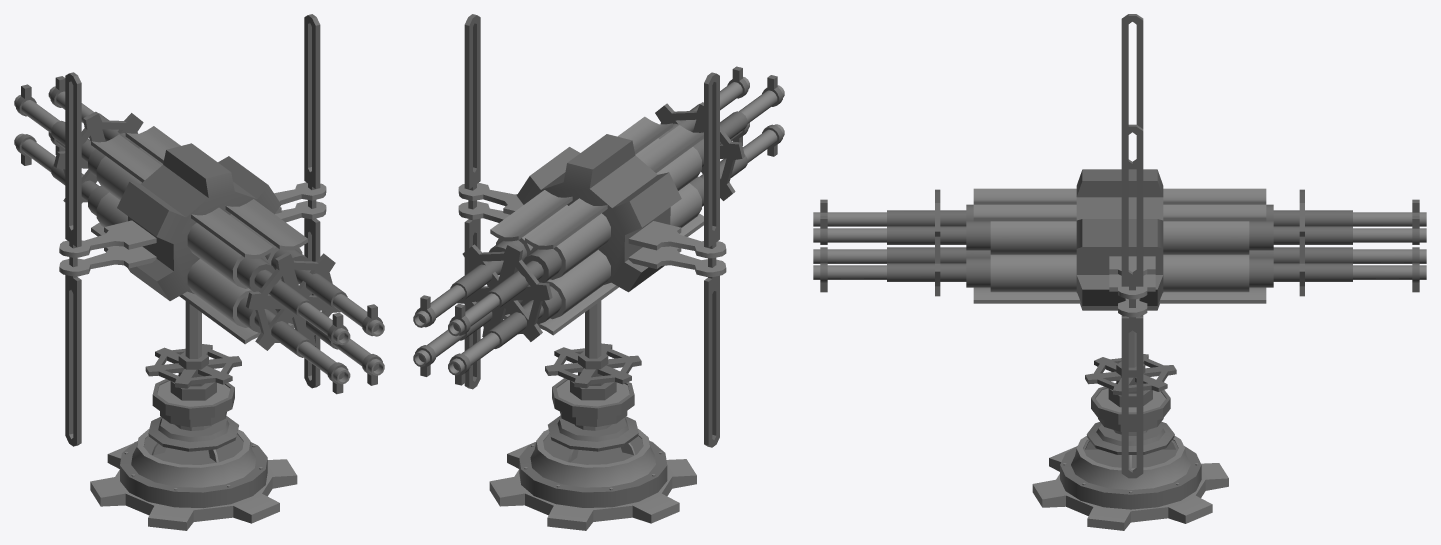
Rendered from flak_slag_mast.glb.
3 views of the same model, side by side, from view 1: azimuth 30°, elevation 25°; view 2: azimuth 150°, elevation 25°; view 3: azimuth 270°, elevation 25° (orthographic). The views are drawn at different scales.
Parts seen in each view (by area): view 1: Turret, Body; view 2: Turret, Body; view 3: Turret, Body.
Boxes of the visible parts, x1,y1,x2,y2 form: Turret: [14, 14, 384, 446]; Body: [90, 379, 297, 530]; Turret: [413, 14, 784, 447]; Body: [489, 378, 696, 530]; Turret: [813, 14, 1426, 478]; Body: [1032, 383, 1228, 530].
Bounding box in the file's own units: 3.73 × 6 × 7.93.
Materials: 1 (1 with a texture image).
